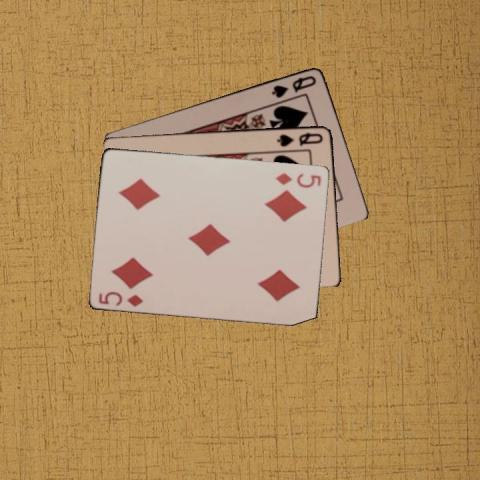5d: (272, 169, 322, 189), (96, 288, 145, 308)
Qs: (269, 72, 318, 99), (274, 129, 325, 148)
